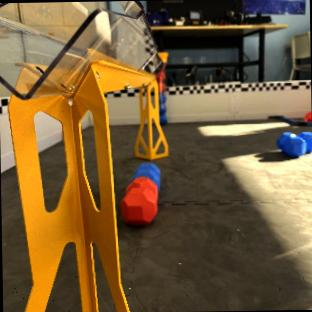V5_BLUE: (121, 162, 160, 225), (277, 131, 311, 156)
